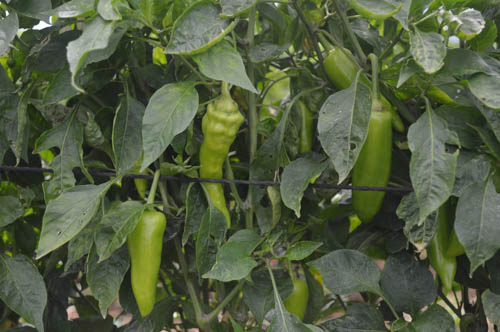ChiliPepper: (326, 53, 407, 131), (197, 103, 244, 221), (347, 113, 394, 225), (129, 210, 165, 321), (421, 217, 456, 287), (282, 280, 310, 320)
